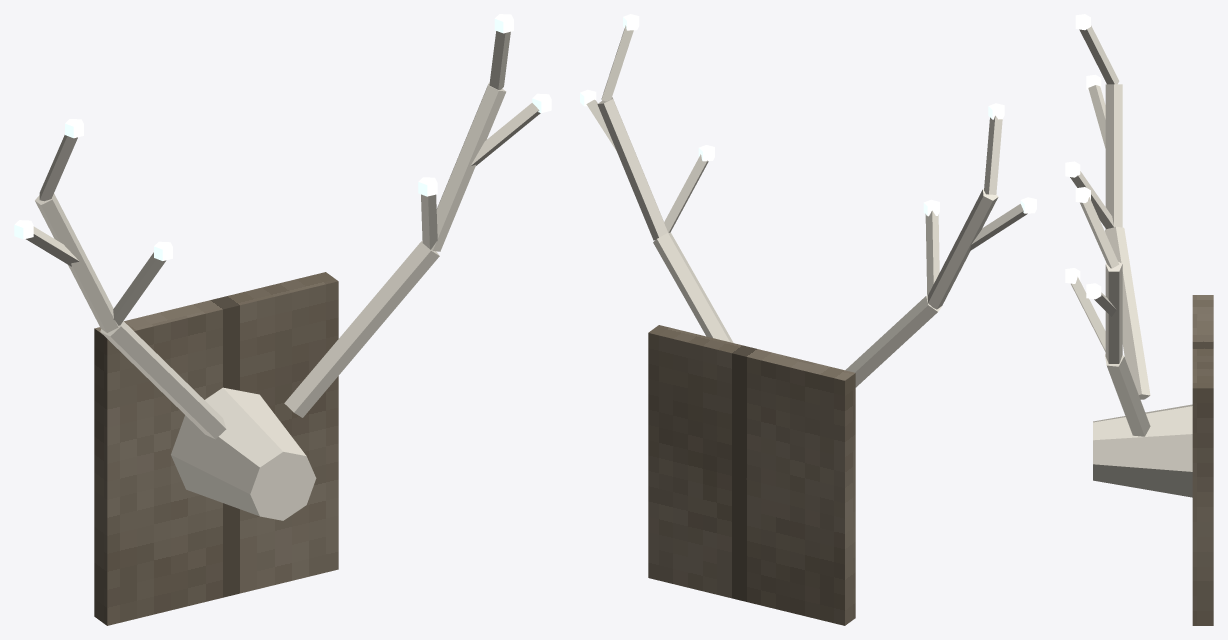
Rendered from trophy_antlers.glb.
The picture shows the model from 3 angles, left to right: view 1: azimuth 30°, elevation 25°; view 2: azimuth 150°, elevation 25°; view 3: azimuth 270°, elevation 25°; orthographic projection. The views are drawn at different scales.
Parts seen in each view (by area): view 1: body; view 2: body; view 3: body.
Boxes of the visible parts, left/top/right/bottom form: body: left=14, top=14, right=551, bottom=625; body: left=580, top=14, right=1036, bottom=625; body: left=1065, top=14, right=1213, bottom=625.
Bounding box in the file's own units: 0.9704 × 1 × 0.2829.
Materials: 3 (1 with a texture image).
